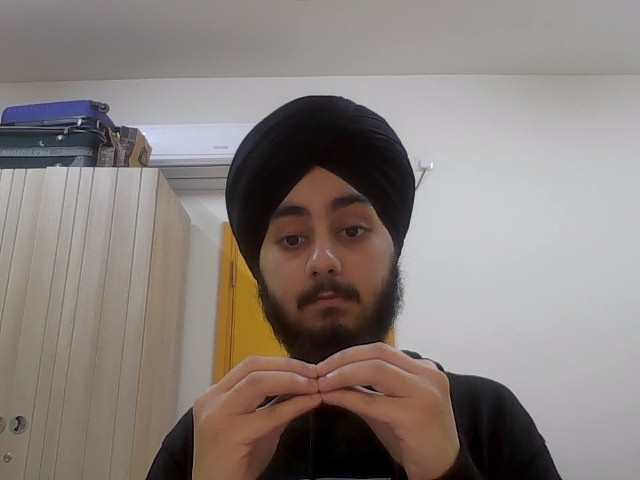More: (191, 339, 457, 477)
